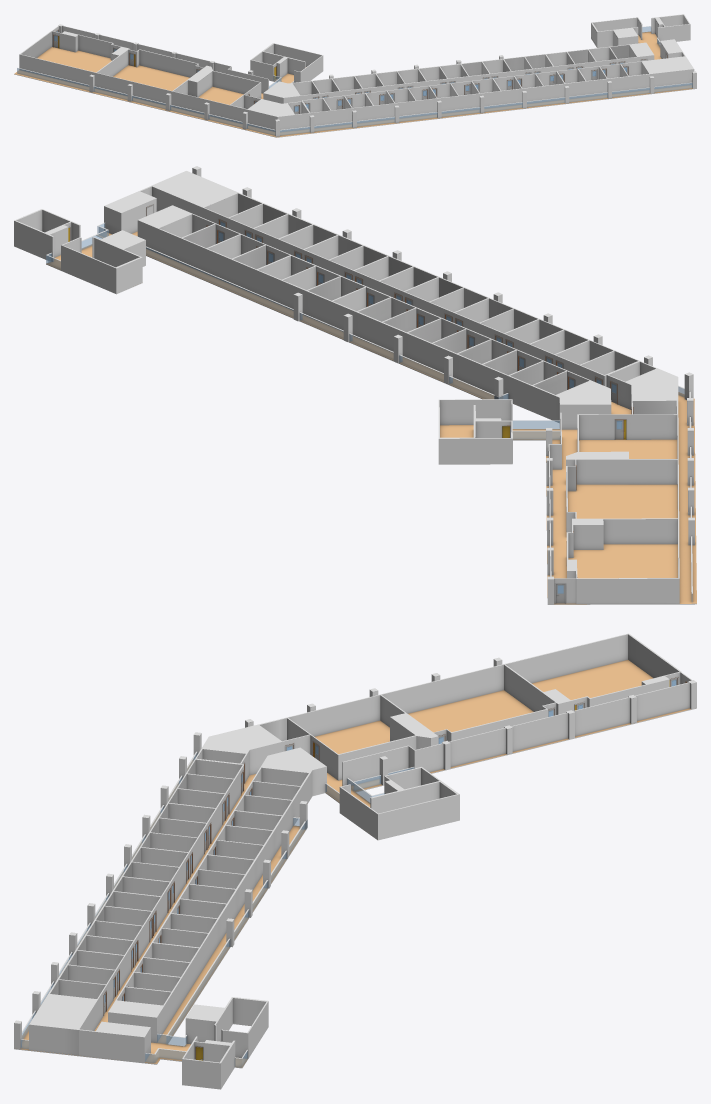
The model's file is COM2_L4.dae.
The picture shows the model from 3 angles, top to bottom: view 1: azimuth 30°, elevation 25°; view 2: azimuth 150°, elevation 25°; view 3: azimuth 270°, elevation 25°; orthographic projection. The views are drawn at different scales.
Visible parts, largest first — view 1: COM2_L4_Zone6, COM2_L4_Zone1, Cap_2, COM2_L4_Zone5, COM2_L4_Floor, COM2_L4_Misc, COM2_L4_LowWall, COM2_L4_Pillars, COM2_L4_Doors; view 2: COM2_L4_Zone5, COM2_L4_Floor, COM2_L4_Zone6, Cap_2, COM2_L4_Zone1, COM2_L4_Misc, COM2_L4_LowWall, COM2_L4_Pillars, COM2_L4_Doors; view 3: COM2_L4_Zone5, COM2_L4_Misc, COM2_L4_Zone6, Cap_2, COM2_L4_Zone1, COM2_L4_Floor, COM2_L4_Pillars, COM2_L4_LowWall, COM2_L4_Doors.
Part boxes in pixels (bbox=[...]): COM2_L4_Zone6: bbox=[303, 61, 694, 127]; COM2_L4_Zone1: bbox=[19, 31, 309, 131]; Cap_2: bbox=[14, 14, 696, 137]; COM2_L4_Zone5: bbox=[263, 41, 684, 103]; COM2_L4_Floor: bbox=[14, 31, 692, 137]; COM2_L4_Misc: bbox=[53, 14, 690, 93]; COM2_L4_LowWall: bbox=[17, 26, 692, 135]; COM2_L4_Pillars: bbox=[59, 25, 696, 136]; COM2_L4_Doors: bbox=[53, 29, 667, 114]; COM2_L4_Zone5: bbox=[104, 186, 611, 429]; COM2_L4_Floor: bbox=[46, 231, 696, 604]; COM2_L4_Zone6: bbox=[152, 186, 637, 386]; Cap_2: bbox=[14, 166, 696, 604]; COM2_L4_Zone1: bbox=[566, 361, 679, 603]; COM2_L4_Misc: bbox=[14, 210, 576, 603]; COM2_L4_LowWall: bbox=[46, 223, 692, 601]; COM2_L4_Pillars: bbox=[192, 168, 694, 604]; COM2_L4_Doors: bbox=[68, 204, 633, 603]; COM2_L4_Zone5: bbox=[79, 766, 326, 1062]; COM2_L4_Misc: bbox=[182, 672, 691, 1088]; COM2_L4_Zone6: bbox=[29, 759, 244, 1055]; Cap_2: bbox=[14, 633, 696, 1089]; COM2_L4_Zone1: bbox=[197, 634, 680, 781]; COM2_L4_Floor: bbox=[20, 660, 690, 1067]; COM2_L4_Pillars: bbox=[14, 659, 696, 1049]; COM2_L4_LowWall: bbox=[21, 752, 414, 1067]; COM2_L4_Doors: bbox=[103, 677, 687, 1060].
Size of the model in its own units: 122 by 3.42 by 80.81.
Materials: 12 (9 with a texture image).
